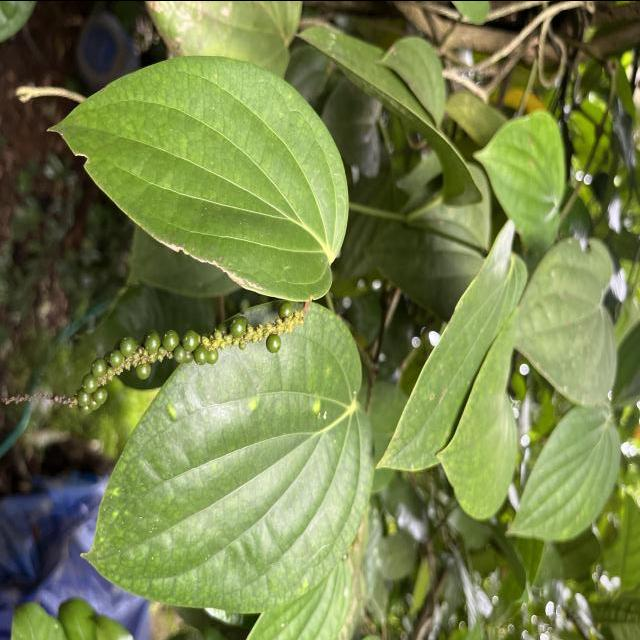Piper nigrum: (78, 298, 376, 614), (44, 52, 351, 304)
